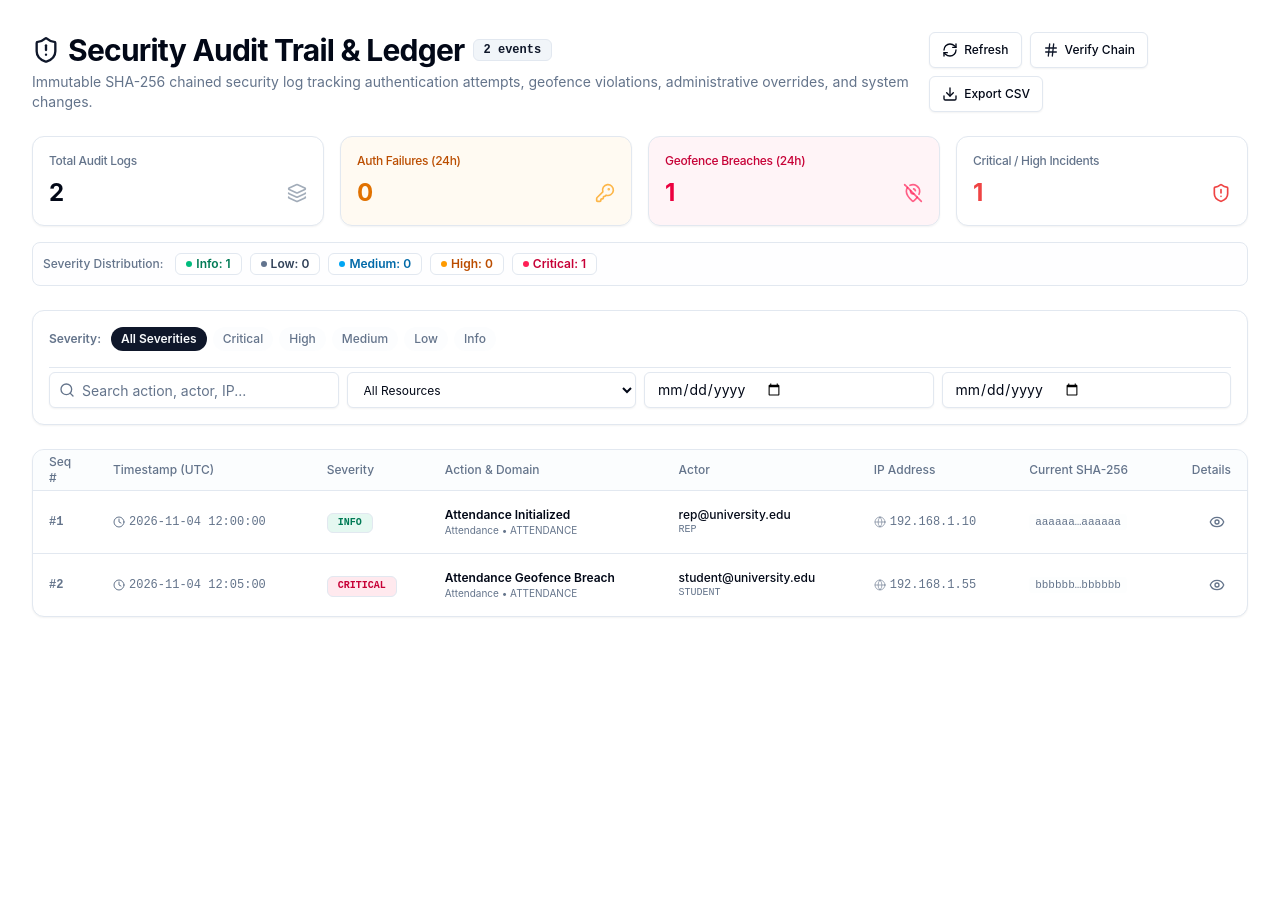
it: AuditLogsPage Component › opens AuditDetailsSheet when clicking a table row
The image size is (1280, 900).
Note: Click on row
Step 1. Click the text "Attendance Geofence Breach" → (530, 577), box [445,570,615,585]
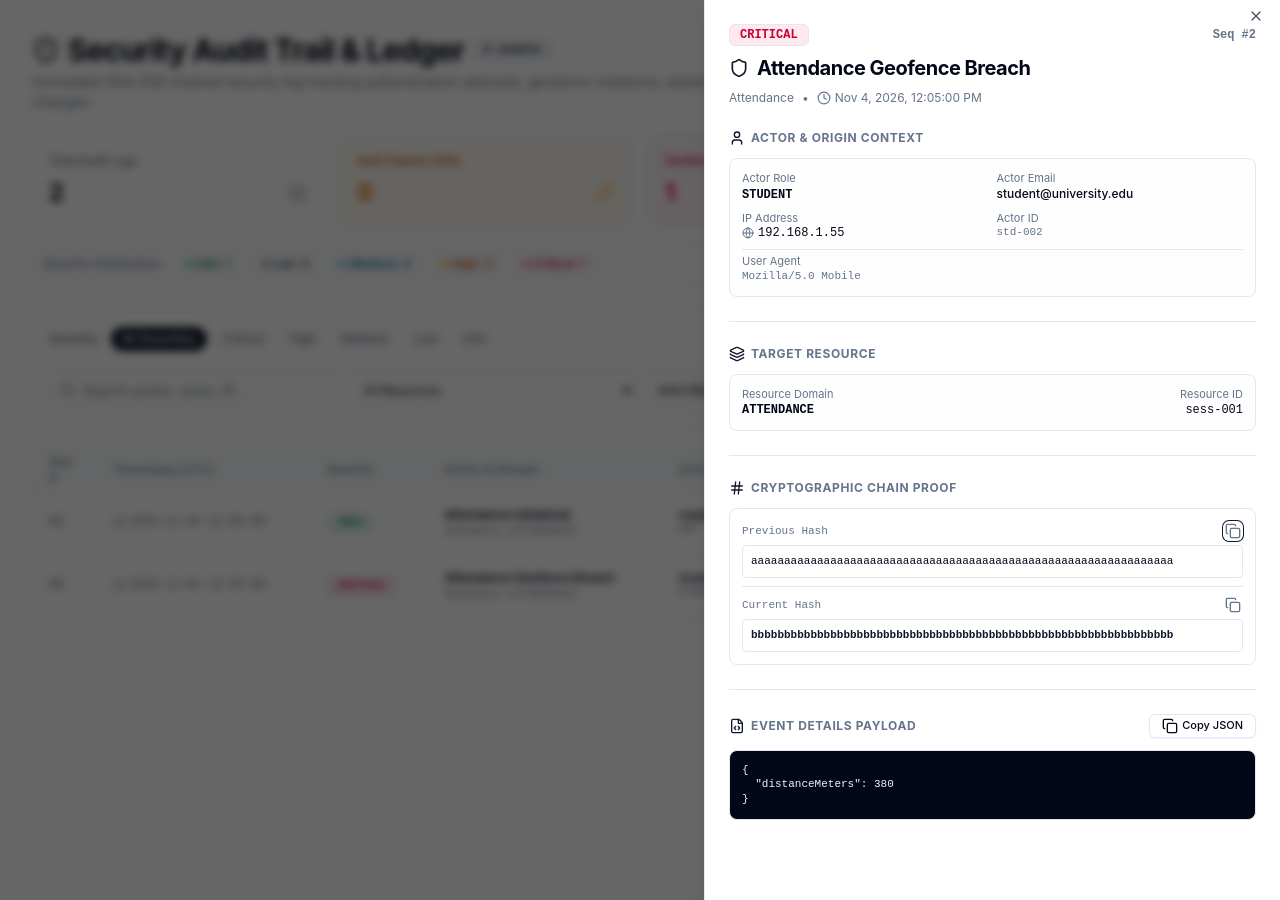
expect the text "Seq #2" is shown: met, box [1213,27,1256,43]
expect the heading "Target Resource" is shown: met, box [729,346,876,362]
expect the heading "Cryptographic Chain Proof" is shown: met, box [729,480,957,496]
